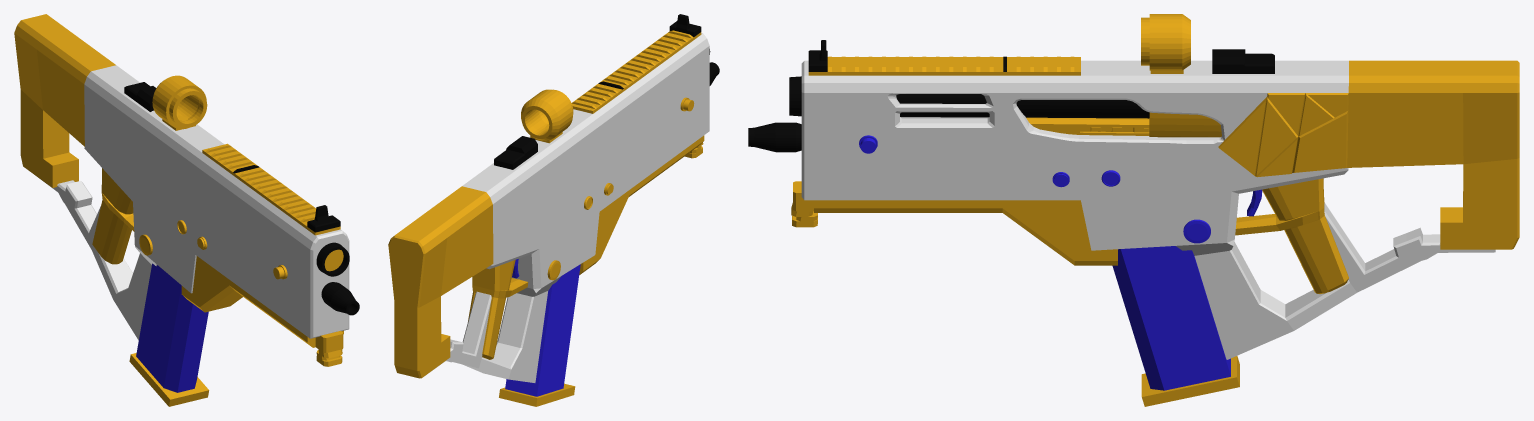
File: christmas-bullpup-palette.glb
3 views of the same model, side by side, from view 1: azimuth 30°, elevation 25°; view 2: azimuth 150°, elevation 25°; view 3: azimuth 270°, elevation 25° (orthographic). The views are drawn at different scales.
Visible parts, largest first — view 1: Cube; view 2: Cube; view 3: Cube.
Boxes of the visible parts, bbox=[...] form: Cube: bbox=[14, 14, 359, 406]; Cube: bbox=[388, 14, 719, 406]; Cube: bbox=[748, 14, 1519, 406].
Bounding box in the file's own units: 0.5085 × 2.87 × 5.29.
